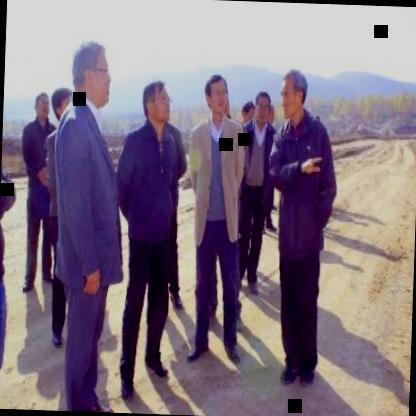head: (68, 34, 112, 112), (138, 74, 174, 130), (279, 64, 310, 124), (49, 80, 77, 130), (202, 74, 230, 121), (256, 87, 274, 129), (30, 88, 50, 125), (237, 100, 255, 136)
